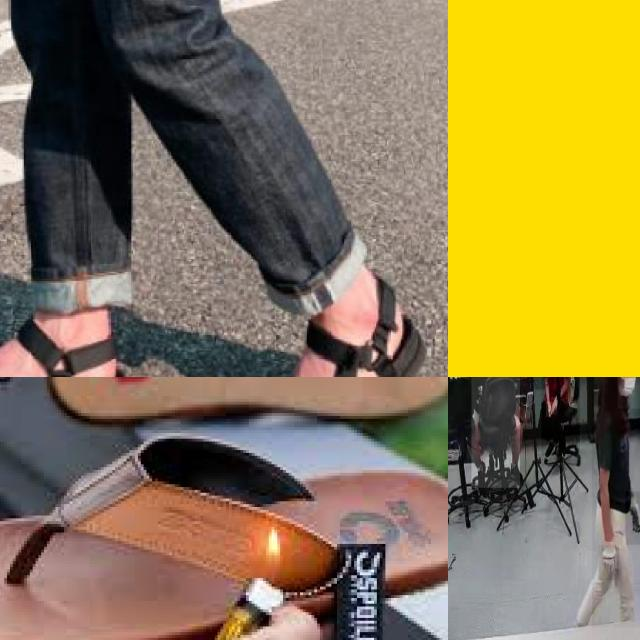Sandals: (0, 377, 448, 640), (234, 312, 447, 377), (0, 322, 138, 377)
face_mask: (617, 377, 640, 408)
hand_glove: (625, 491, 640, 545), (598, 545, 620, 581)
hand_noglove: (550, 397, 558, 416), (546, 402, 552, 418)
person: (591, 377, 640, 628), (471, 377, 520, 488), (541, 377, 580, 456)
shoes: (505, 459, 525, 493)
